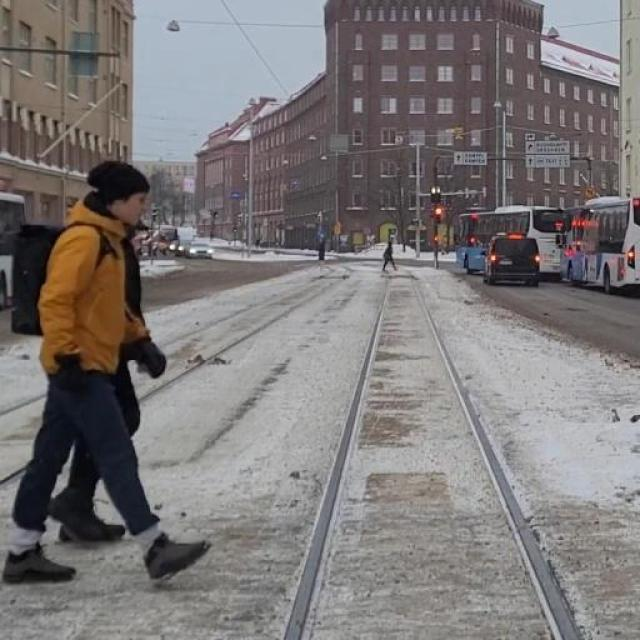people: (17, 158, 210, 591), (376, 233, 401, 277), (313, 231, 333, 274)
vehicle: (451, 198, 570, 280), (483, 232, 553, 290)
